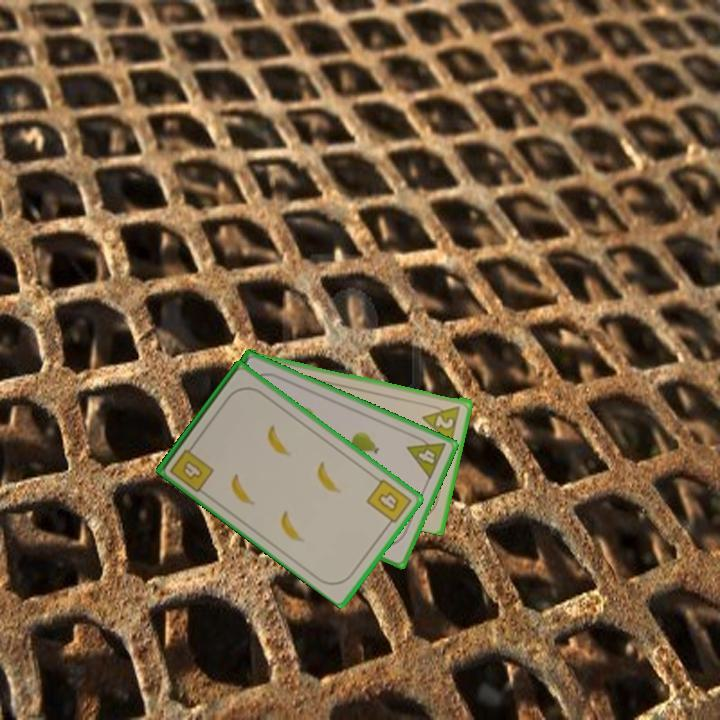2p: (419, 401, 463, 445)
4b: (363, 475, 415, 530), (166, 439, 217, 495)
4p: (403, 430, 449, 482)
